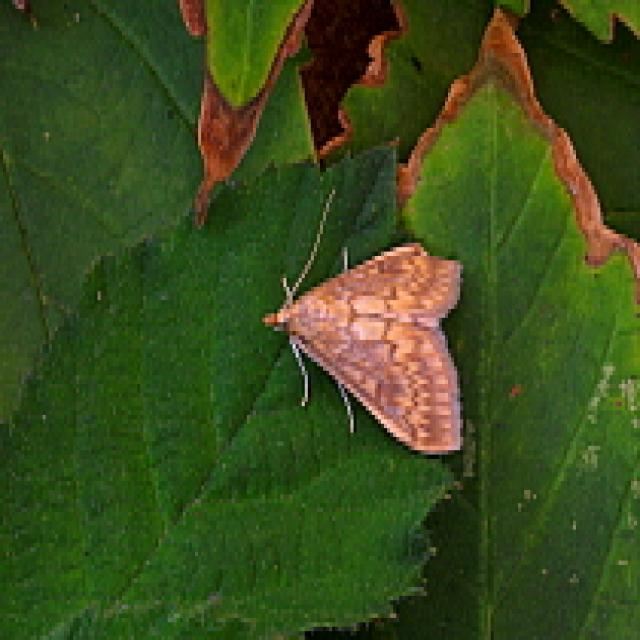cornborer-Adult-: (234, 175, 512, 472)
